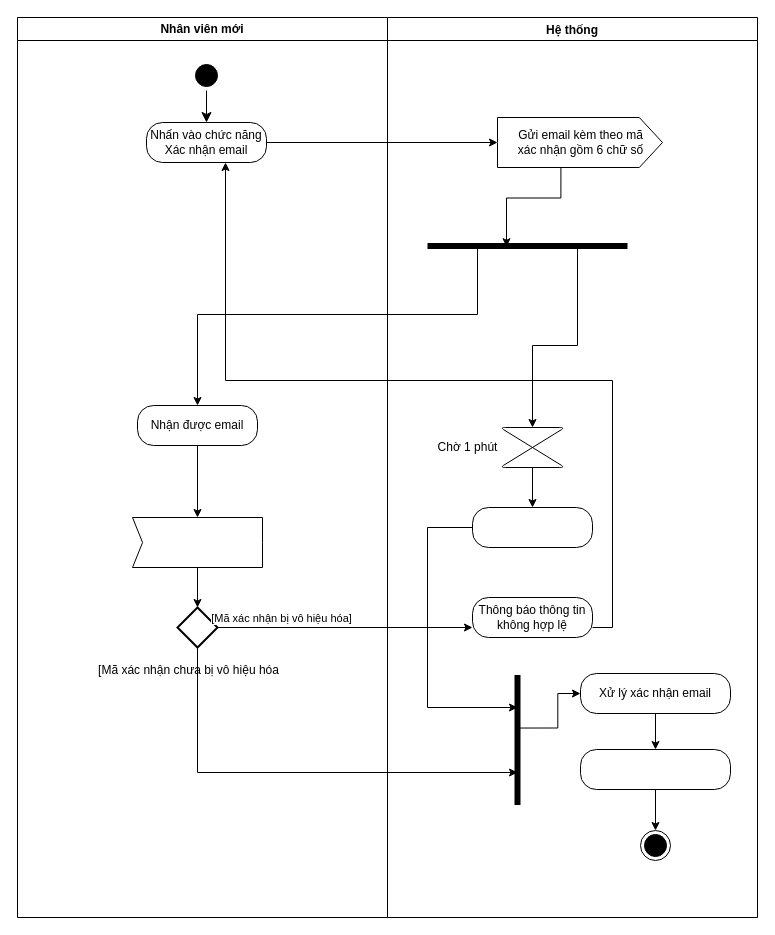
This 775x935 diagram has some shape labels left out. The shapes that lost their labels are listed below. From the top down, each one's centre as x and y in pixels, then its label:
At [197,542]: "Nhập mã xác nhận vào biểu mẫu".
At [532,527]: "Vô hiệu hóa mã xác nhận".
At [655,769]: "Thông báo xác nhận email thành công".
